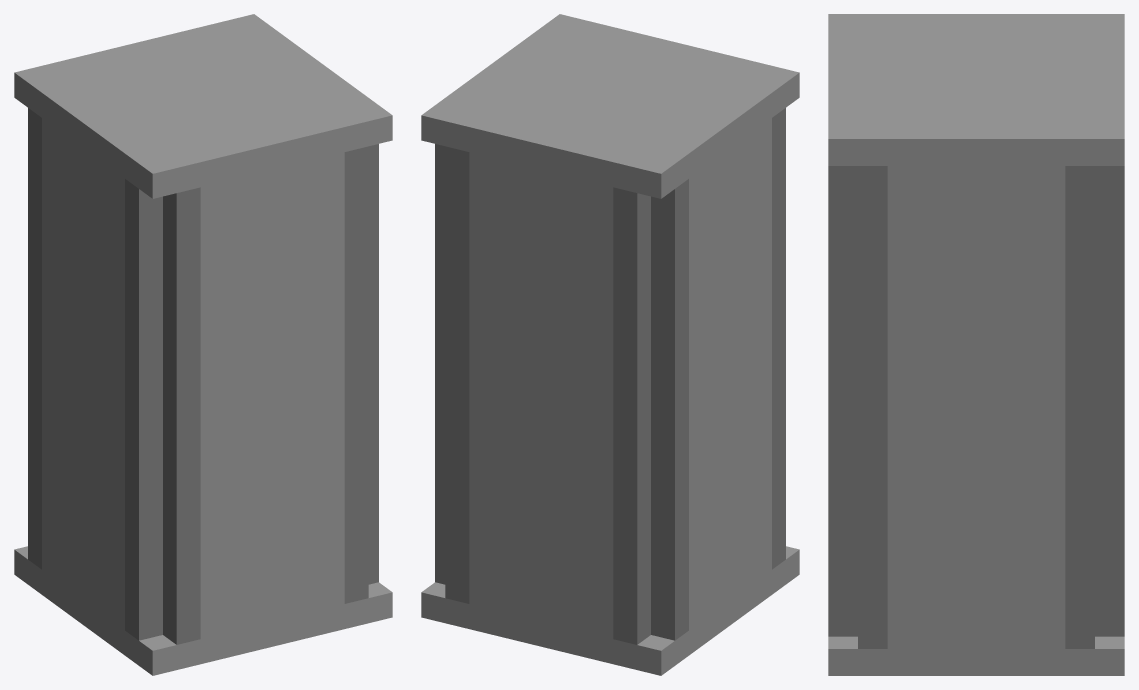
Rendered from Wall.obj.
3 views of the same model, side by side, from view 1: azimuth 30°, elevation 25°; view 2: azimuth 150°, elevation 25°; view 3: azimuth 270°, elevation 25° (orthographic). The views are drawn at different scales.
Size of the model in its own units: 1 by 2 by 1.
1 material, 1 textured.
